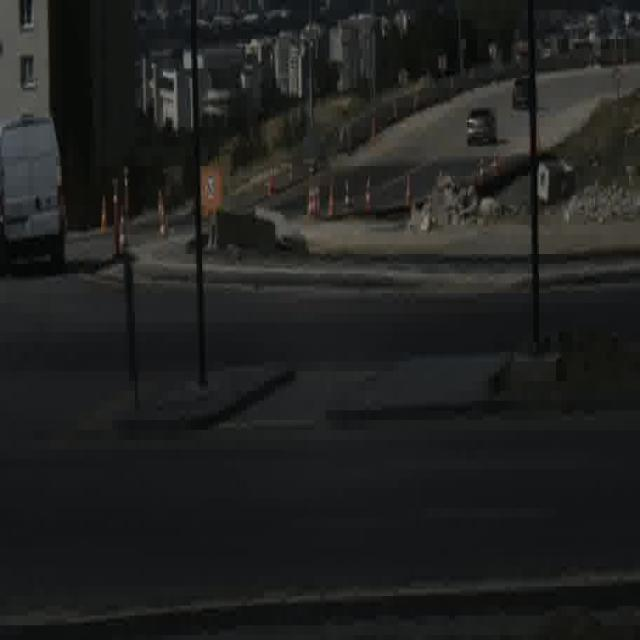Car: (0, 110, 59, 266), (466, 105, 496, 148), (512, 77, 532, 112)
